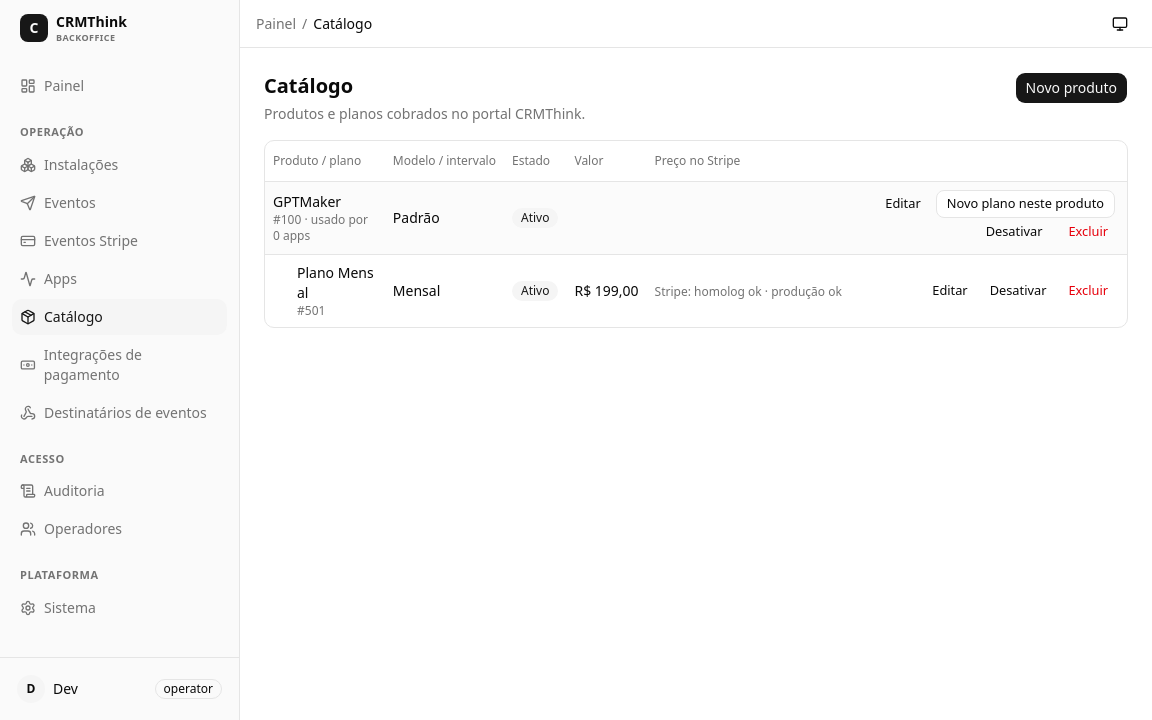
Test: excluir e desativar › usage com tipos inesperados é tratado como sem uso
This screenshot has width=1152, height=720.
Click the button with aria-label "Excluir plano Plano Mensal". click: (1088, 290)
box: 1057,276 -> 1119,304
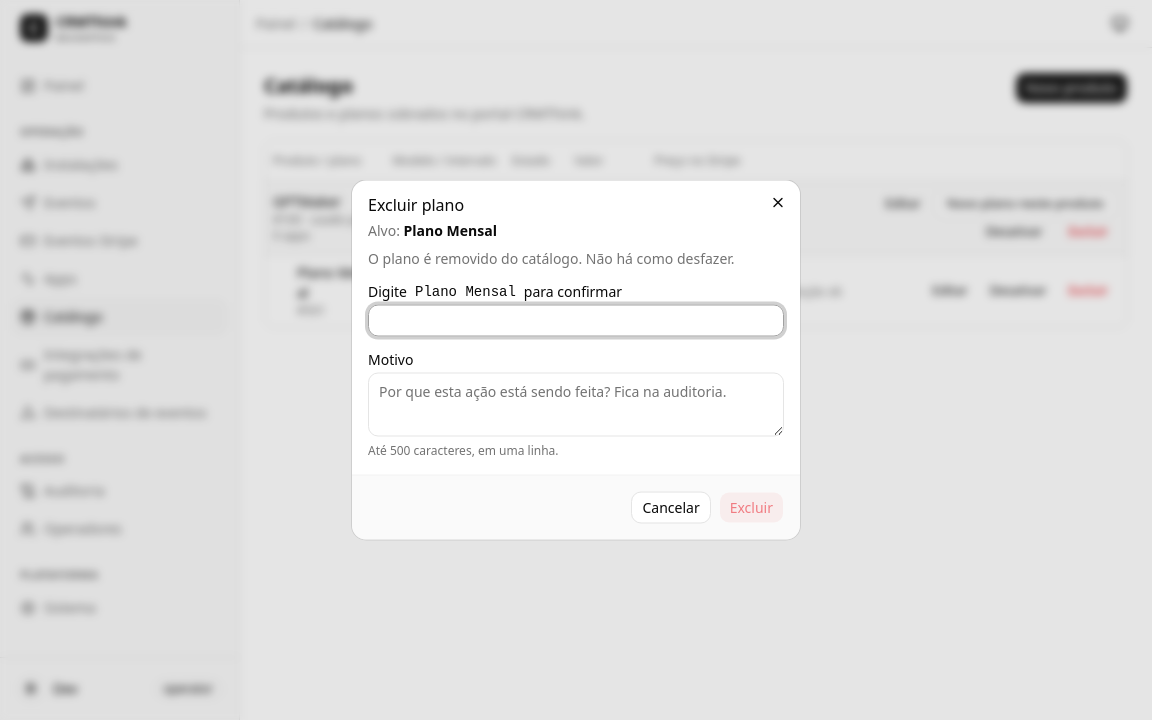
Check: the field labelled "Digite Plano Mensal para confirmar" is shown, box 368,304 -> 784,336
